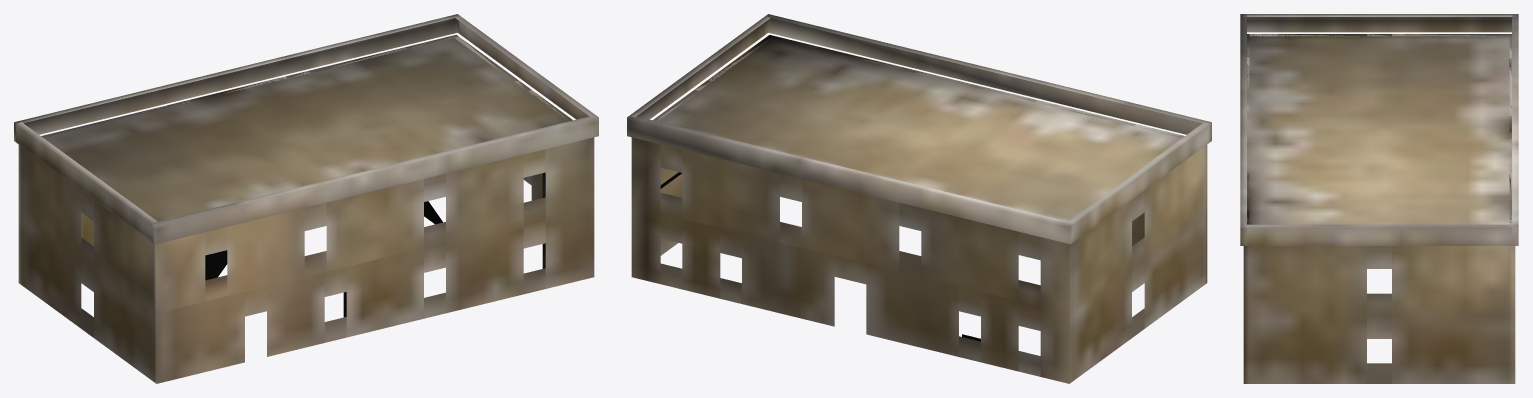
The model's file is skin_town_80_-33.glb.
The picture shows the model from 3 angles, left to right: view 1: azimuth 30°, elevation 25°; view 2: azimuth 150°, elevation 25°; view 3: azimuth 270°, elevation 25°; orthographic projection.
Visible parts, largest first — view 1: town_80_-33; view 2: town_80_-33; view 3: town_80_-33.
Part boxes in pixels (left/top/right/bottom): town_80_-33: left=14, top=14, right=598, bottom=383; town_80_-33: left=627, top=14, right=1211, bottom=383; town_80_-33: left=1240, top=14, right=1518, bottom=383.
Size of the model in its own units: 22.3 by 7.7 by 12.3.
Materials: 1 (1 with a texture image).
